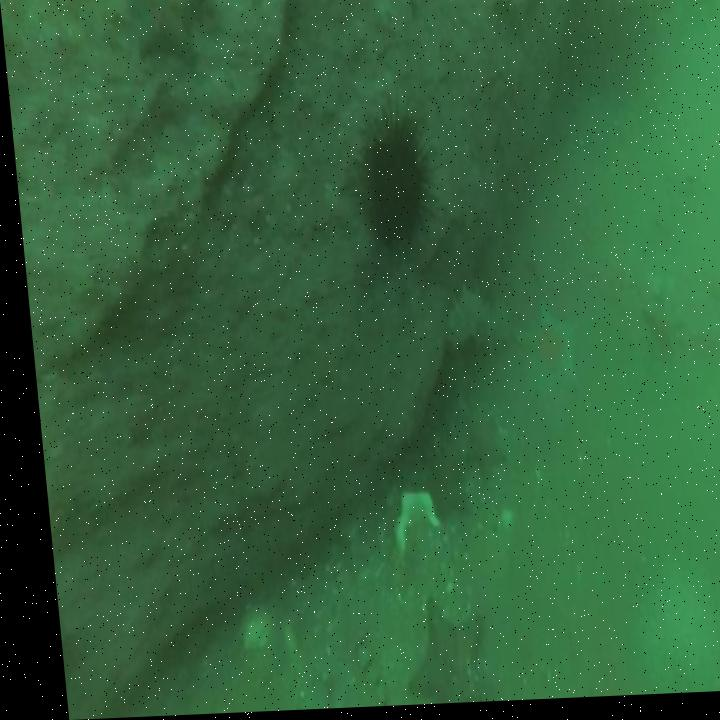echinus: (337, 110, 434, 262)
holothurian: (437, 287, 510, 364)
starfish: (382, 603, 481, 708), (506, 301, 576, 401), (132, 0, 217, 81), (408, 447, 462, 529), (452, 418, 502, 487)
